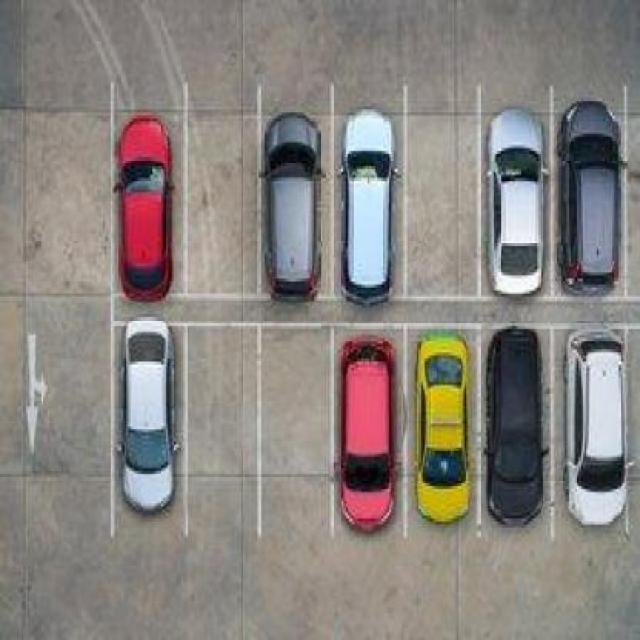space-empty: (185, 330, 260, 530), (260, 338, 332, 530), (409, 93, 476, 295), (186, 108, 253, 292), (627, 114, 640, 290)
space-occupied: (557, 334, 631, 535), (114, 323, 184, 532), (484, 335, 555, 533), (483, 92, 553, 289), (341, 92, 407, 298), (338, 347, 406, 540), (557, 93, 624, 286), (260, 94, 325, 291), (406, 345, 475, 529), (116, 113, 179, 298)
